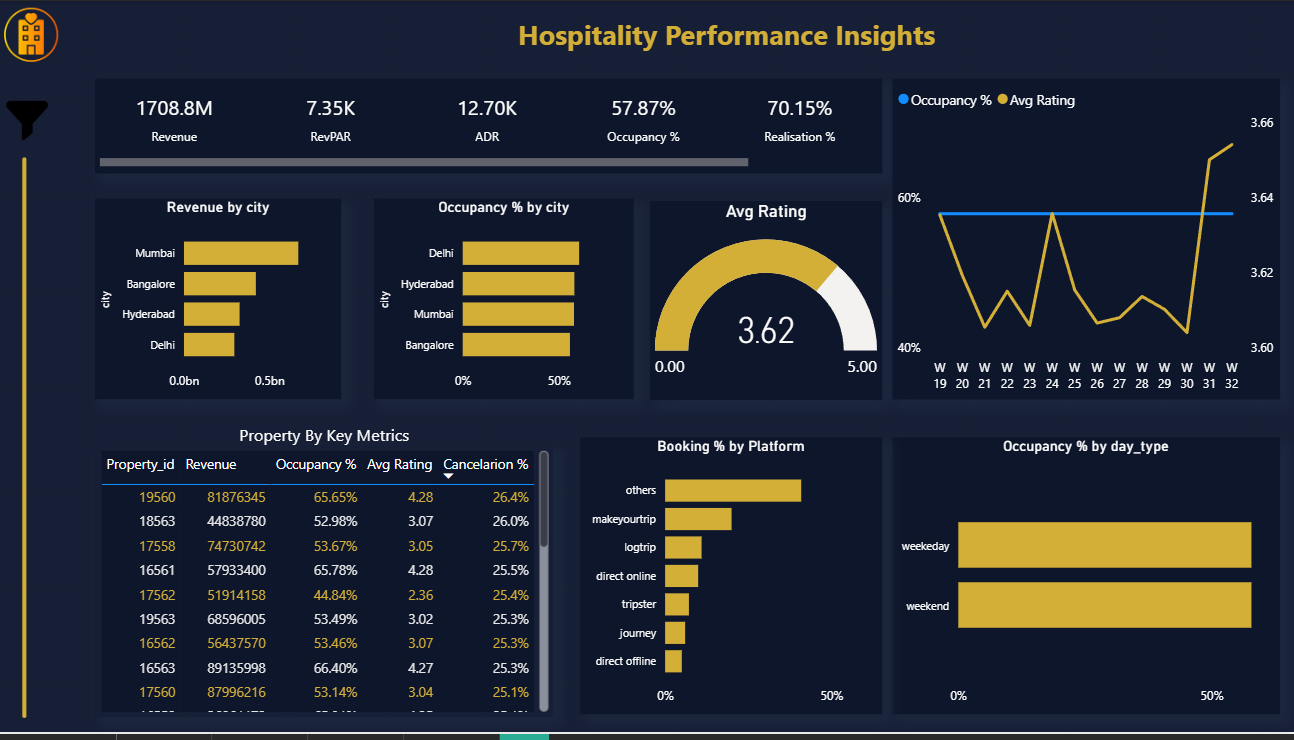

The dashboard page shown, as its layout file describes it:
{"tool":"powerbi","page":{"name":"Page 3","canvas":[1280,720],"ordinal":2},"visuals":[{"type":"cardVisual","fields":{"Data":["Ker Measures.Revenue","Ker Measures.RevPAR(Revenue Per Available Room)","Ker Measures.ADR(Average Daily rate)","Ker Measures.Occupancy %","Ker Measures.Realisation %","Ker Measures.Avg Rating"]},"box":[98.8,76.2,775,93.8],"z":0},{"type":"barChart","fields":{"Y":["Ker Measures.Revenue"],"Category":["dim_hotels.city"]},"box":[98.8,195,242.5,197.5],"z":1000},{"type":"barChart","fields":{"Y":["Ker Measures.Occupancy %"],"Category":["dim_hotels.city"]},"box":[372.5,195,256.2,197.5],"z":2000},{"type":"tableEx","fields":{"Values":["dim_hotels.property_id","Ker Measures.Revenue","Ker Measures.Occupancy %","Ker Measures.Avg Rating","Ker Measures.Cancelarion %"]},"box":[98.8,438.8,451.2,266.2],"z":3000},{"type":"gauge","fields":{"Y":["Ker Measures.Avg Rating"]},"box":[645,197.5,228.8,196.2],"z":4000},{"type":"barChart","fields":{"Y":["Ker Measures.Occupancy %"],"Category":["dim_date.day_type"]},"box":[883.8,430,381.2,272.5],"z":5000},{"type":"barChart","title":"Booking % by Platform ","fields":{"Y":["Ker Measures.Booking % by Platform"],"Category":["fact_bookings.booking_platform"]},"box":[576.2,430,297.5,272.5],"z":6000},{"type":"lineChart","fields":{"Y":["Ker Measures.Occupancy %"],"Category":["dim_date.week no"],"Y2":["Ker Measures.Avg Rating"]},"box":[883.8,76.2,381.2,316.2],"z":7000},{"type":"shape","box":[17.8,153.3,23.3,552.2],"z":8000},{"type":"image","title":"Slicer_background_Shape","box":[2.5,85,58.8,62.5],"z":9000},{"type":"image","box":[0,0,71.2,66.2],"z":10000},{"type":"textbox","box":[176.2,10,1088.8,56.2],"z":11000},{"type":"textbox","box":[98.8,411.2,451.2,36.2],"z":13000}]}

Visuals, with their boxes in screenshot pixels (x1, y1, x2, y2), scaled from the page's 1280x720 canvas onto the 1294x740 screenshot:
cardVisual - Ker Measures.Revenue x Ker Measures.RevPAR(Revenue Per Available Room): detection(100, 78, 883, 175)
barChart - Ker Measures.Revenue x dim_hotels.city: detection(100, 200, 345, 403)
barChart - Ker Measures.Occupancy % x dim_hotels.city: detection(377, 200, 636, 403)
tableEx - dim_hotels.property_id x Ker Measures.Revenue: detection(100, 451, 556, 725)
gauge - Ker Measures.Avg Rating: detection(652, 203, 883, 405)
barChart - Ker Measures.Occupancy % x dim_date.day_type: detection(893, 442, 1279, 722)
"Booking % by Platform " barChart: detection(583, 442, 883, 722)
lineChart - Ker Measures.Occupancy % x dim_date.week no: detection(893, 78, 1279, 403)
shape: detection(18, 158, 42, 725)
"Slicer_background_Shape" image: detection(3, 87, 62, 152)
image: detection(0, 0, 72, 68)
textbox: detection(178, 10, 1279, 68)
textbox: detection(100, 423, 556, 460)
